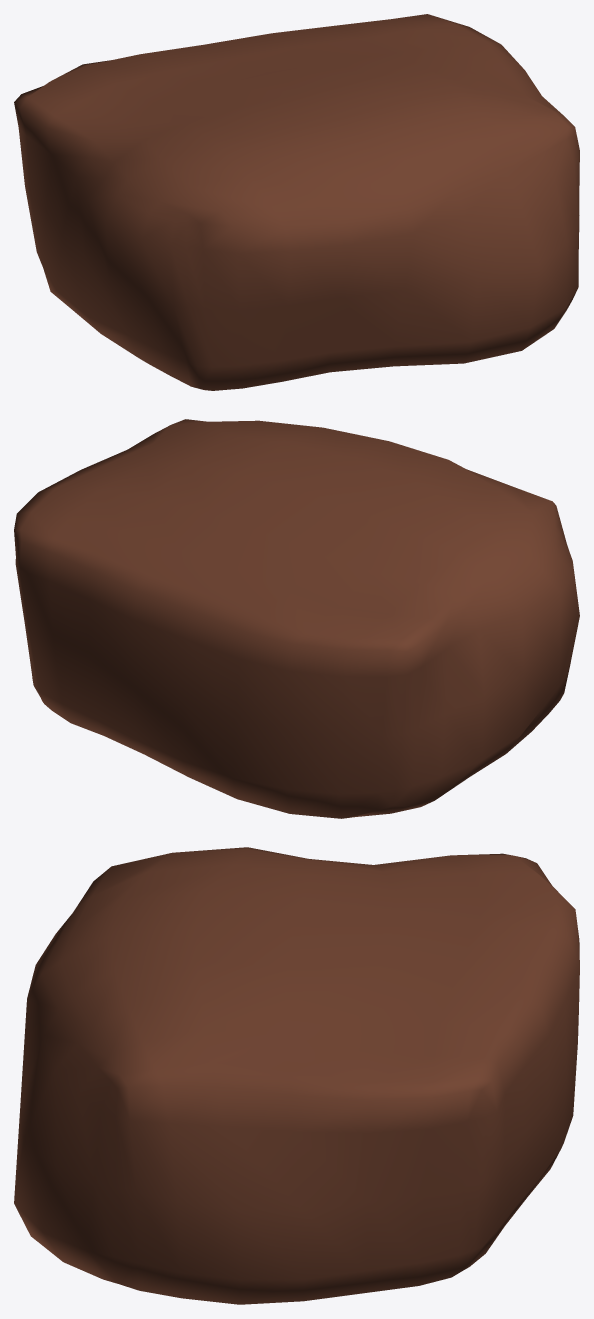
Rendered from plateau.glb.
3 renders of one model, top to bottom at view 1: azimuth 30°, elevation 25°; view 2: azimuth 150°, elevation 25°; view 3: azimuth 270°, elevation 25°, orthographic. The views are drawn at different scales.
Visible parts, largest first — view 1: Plateau; view 2: Plateau; view 3: Plateau.
Part boxes in pixels (left/top/right/bottom): Plateau: left=14, top=14, right=579, bottom=390; Plateau: left=14, top=419, right=579, bottom=818; Plateau: left=14, top=847, right=579, bottom=1304.
Size of what is drawn, in the model's own units: 5.28 by 2.34 by 4.71.
